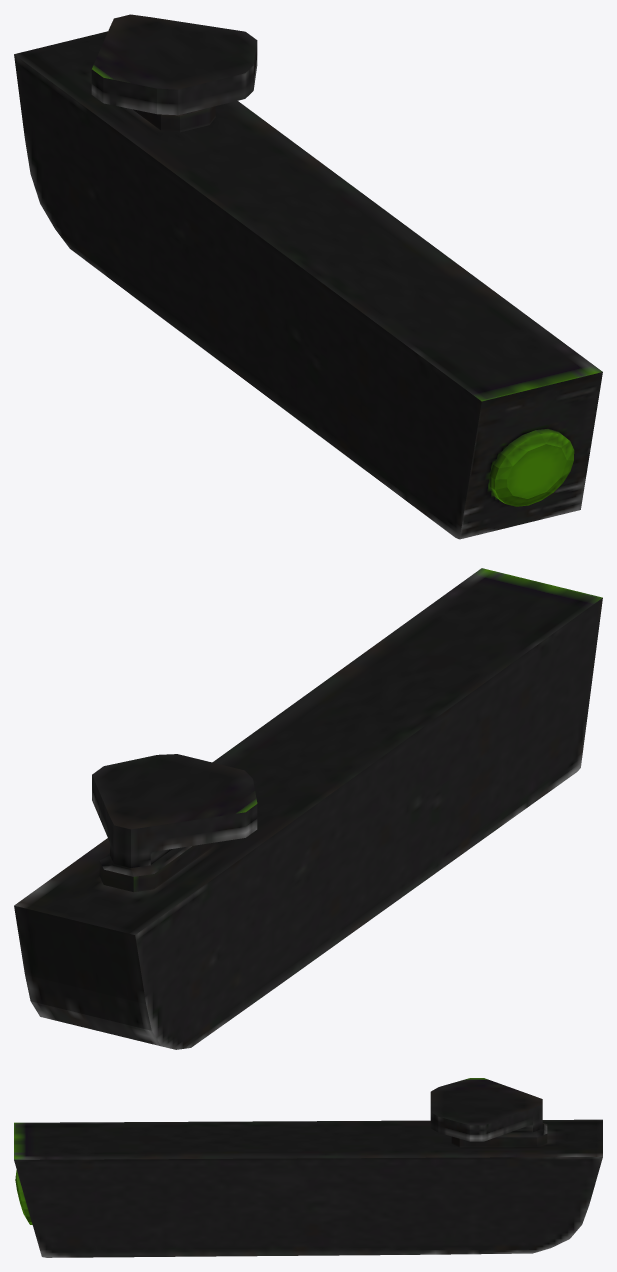
3 renders of one model, top to bottom at view 1: azimuth 30°, elevation 25°; view 2: azimuth 150°, elevation 25°; view 3: azimuth 270°, elevation 25°, orthographic. The views are drawn at different scales.
Parts seen in each view (by area): view 1: TW_5a7d9104159bd400134c8c21_PZ_Import; view 2: TW_5a7d9104159bd400134c8c21_PZ_Import; view 3: TW_5a7d9104159bd400134c8c21_PZ_Import.
Boxes of the visible parts, <box> form: TW_5a7d9104159bd400134c8c21_PZ_Import: <box>14,14,602,539</box>; TW_5a7d9104159bd400134c8c21_PZ_Import: <box>14,568,602,1049</box>; TW_5a7d9104159bd400134c8c21_PZ_Import: <box>14,1078,602,1257</box>.
Size of the model in its own units: 0.00313 by 0.0165 by 0.00424.
1 material, 1 textured.
